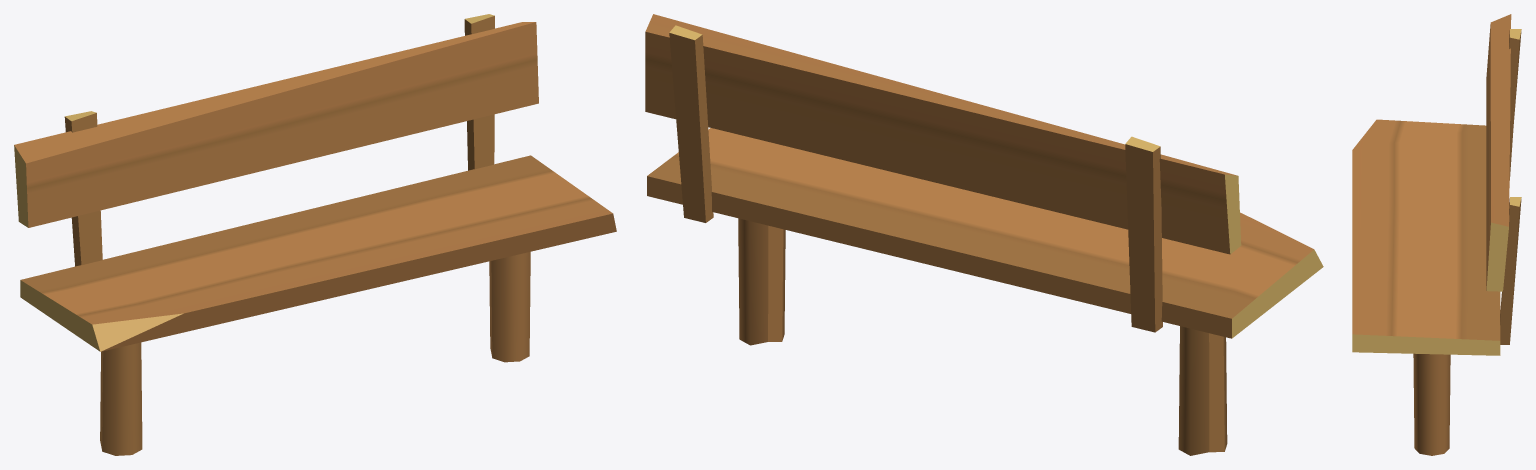
The model's file is Bench.glb.
3 renders of one model, left to right at view 1: azimuth 30°, elevation 25°; view 2: azimuth 150°, elevation 25°; view 3: azimuth 270°, elevation 25°, orthographic. The views are drawn at different scales.
Visible parts, largest first — view 1: bench-ver2-light; view 2: bench-ver2-light; view 3: bench-ver2-light.
Part boxes in pixels (bbox=[...]): bench-ver2-light: bbox=[14, 14, 616, 455]; bench-ver2-light: bbox=[645, 14, 1323, 455]; bench-ver2-light: bbox=[1352, 14, 1521, 455].
Size of the model in its own units: 1.5 by 0.8355 by 0.4996.
Materials: 1 (1 with a texture image).
